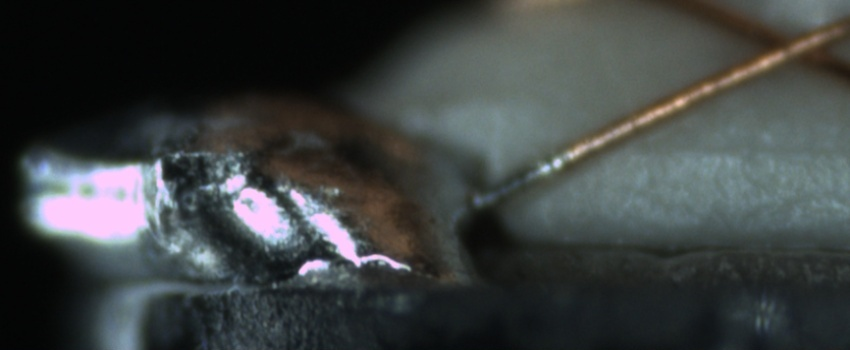CL: (739, 12, 841, 78)
DL: (619, 113, 850, 177)
TS: (473, 150, 570, 209)
